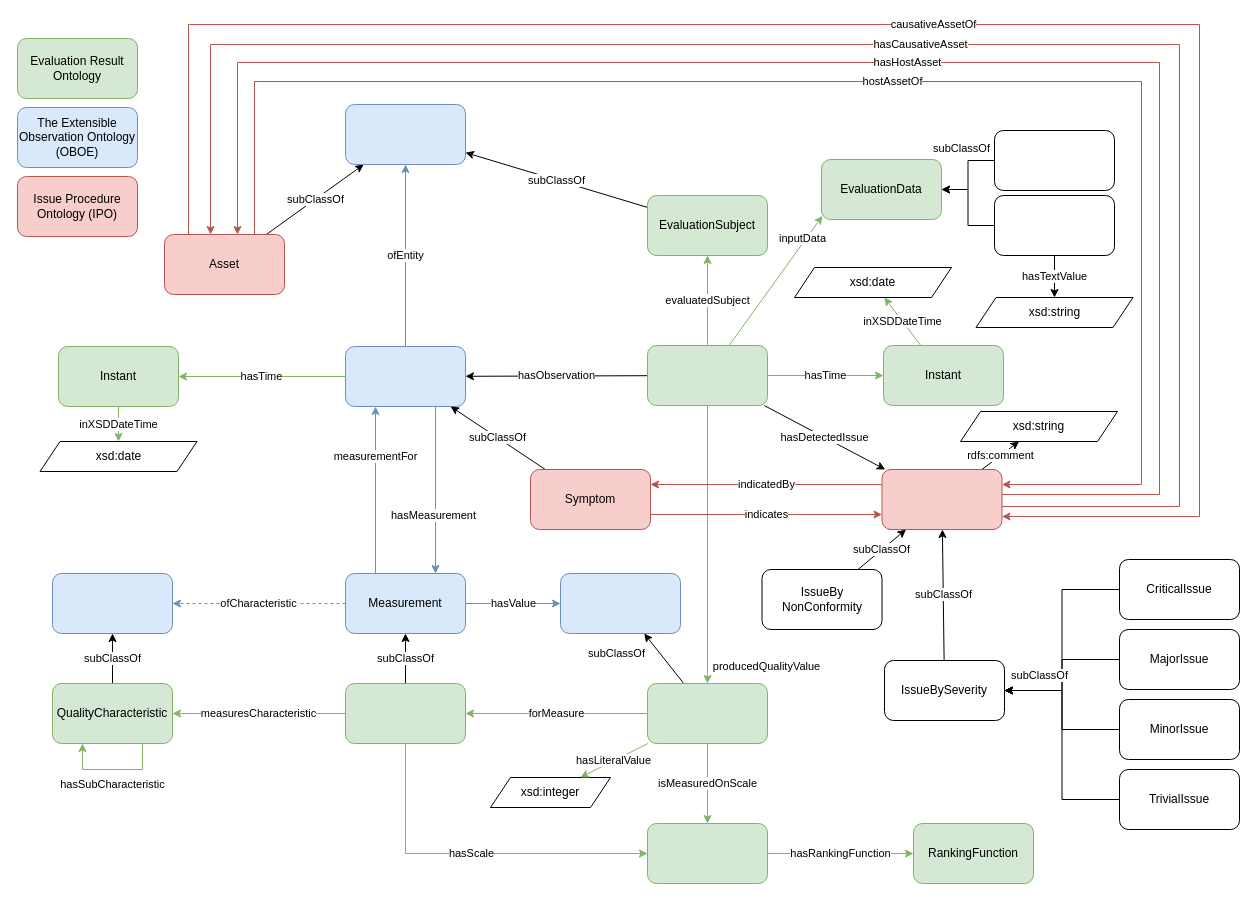
Some shapes in this 1257 by 901 pixel diagram are drawn without their labels. Here are the shapes that lost their labels. From the top down, the box of each, then its label:
(344, 104, 466, 164): Entity
(994, 130, 1114, 190): EvaluationInputData
(994, 194, 1114, 256): Evaluation ConfigurationData
(344, 346, 466, 406): Observation
(646, 344, 768, 406): Evaluation
(881, 468, 1002, 530): Issue
(52, 572, 172, 634): Characteristic
(560, 572, 680, 634): MeasuredValue
(344, 682, 466, 744): QualityMeasure
(646, 682, 768, 744): QualityValue
(646, 822, 768, 884): MeasurementScale
